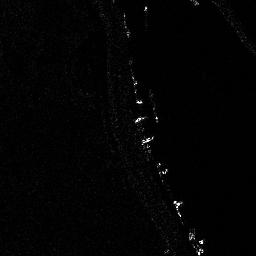ship: (187, 231, 204, 256)
